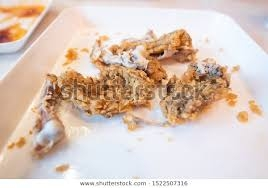kitchen_waste: (153, 55, 246, 131), (55, 64, 157, 122), (91, 24, 205, 73), (25, 71, 73, 158)
